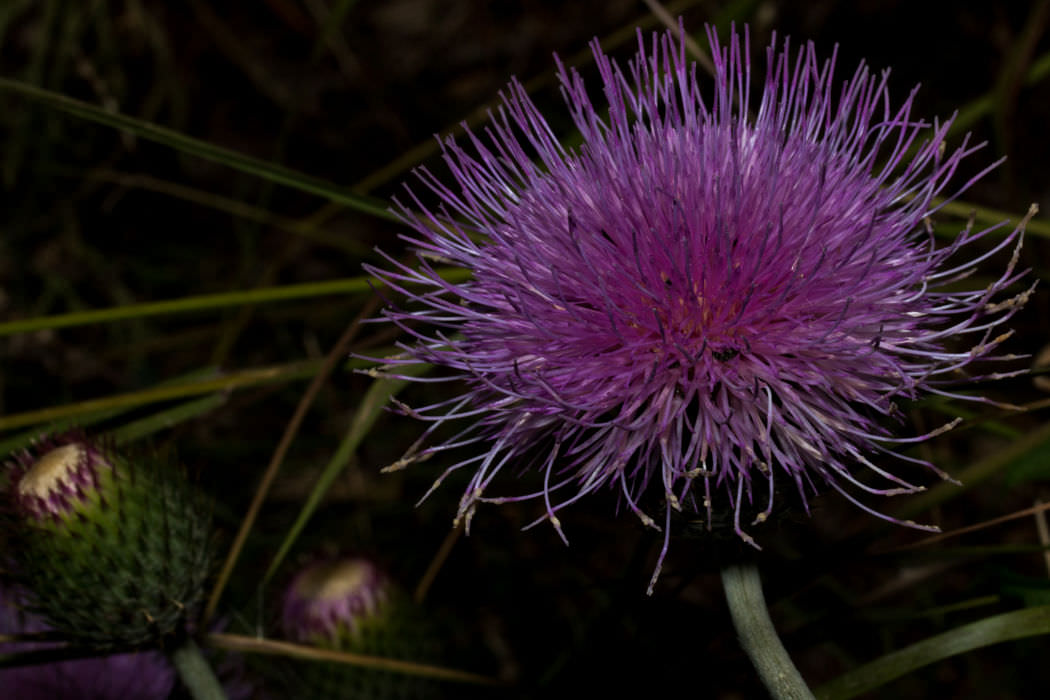thistle: (385, 27, 1026, 583), (14, 431, 233, 645)
